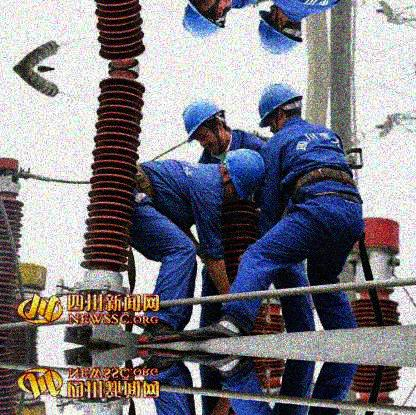helmet: (180, 99, 229, 153), (258, 1, 304, 57), (221, 146, 266, 203), (255, 83, 305, 134), (184, 1, 230, 42)
